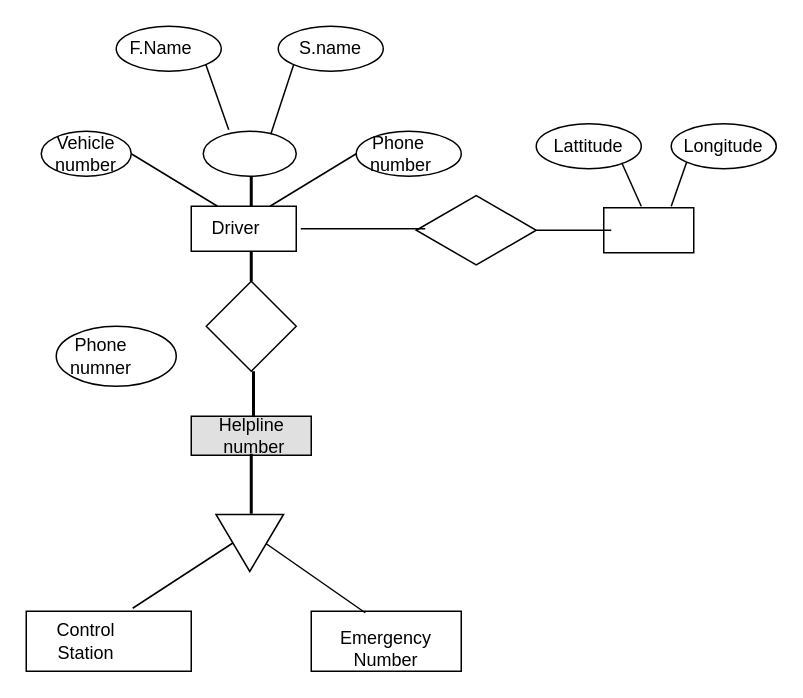
The diagram is 803 pixels wide and 698 high, and some of its shapes have lost their labels. The centre of each missing label's shape, as x and y in pixels:
"Driver alert" goes at (x=250, y=325).
"IS A" goes at (x=249, y=542).
"Location" goes at (x=648, y=229).
"Location driver" goes at (x=475, y=229).
"Name" goes at (x=249, y=153).
